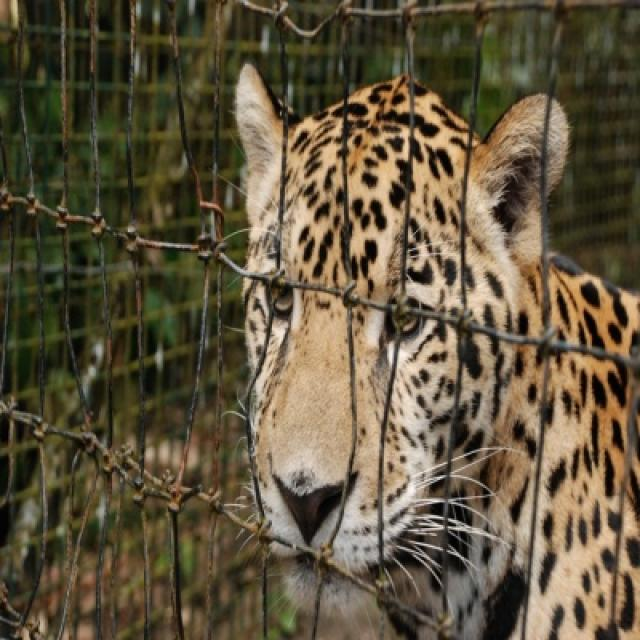Jaguar: (234, 64, 638, 638)
